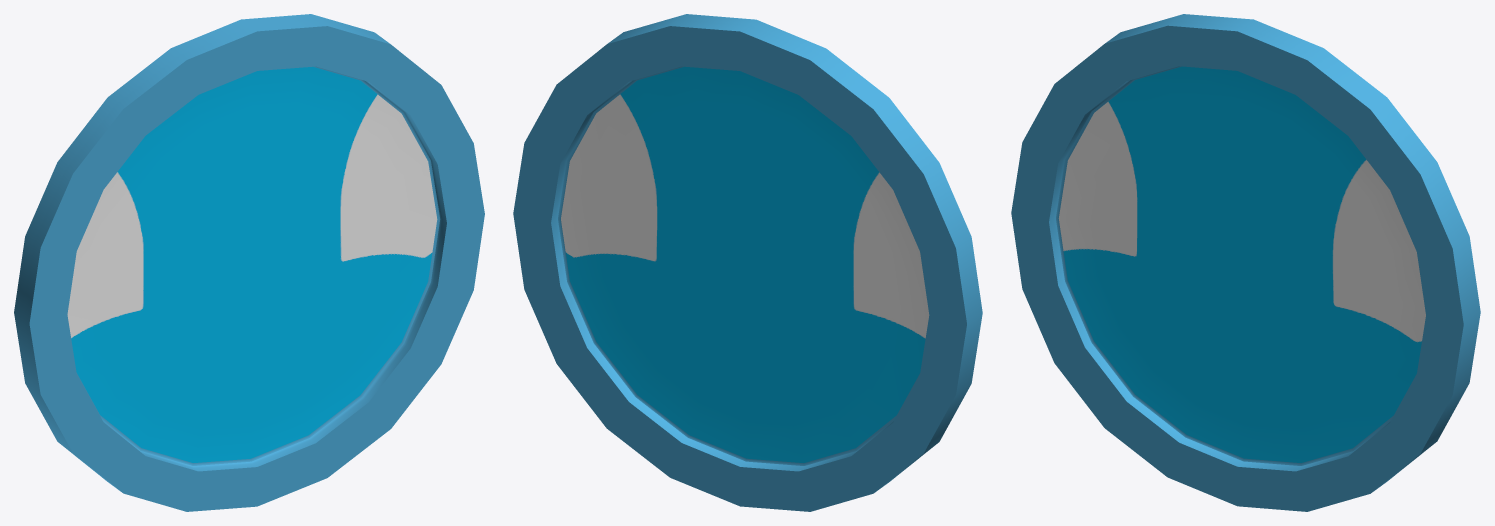
File: shield_powerup.fbx
3 views of the same model, side by side, from view 1: azimuth 30°, elevation 25°; view 2: azimuth 150°, elevation 25°; view 3: azimuth 330°, elevation 25° (orthographic).
Parts seen in each view (by area): view 1: pCylinder1; view 2: pCylinder1; view 3: pCylinder1.
Part boxes in pixels (box(x1,y1,x2,y2)): pCylinder1: box(14, 14, 484, 511); pCylinder1: box(513, 14, 982, 511); pCylinder1: box(1011, 14, 1480, 511).
Bounding box in the file's own units: 36.24 × 36.24 × 2.34.
